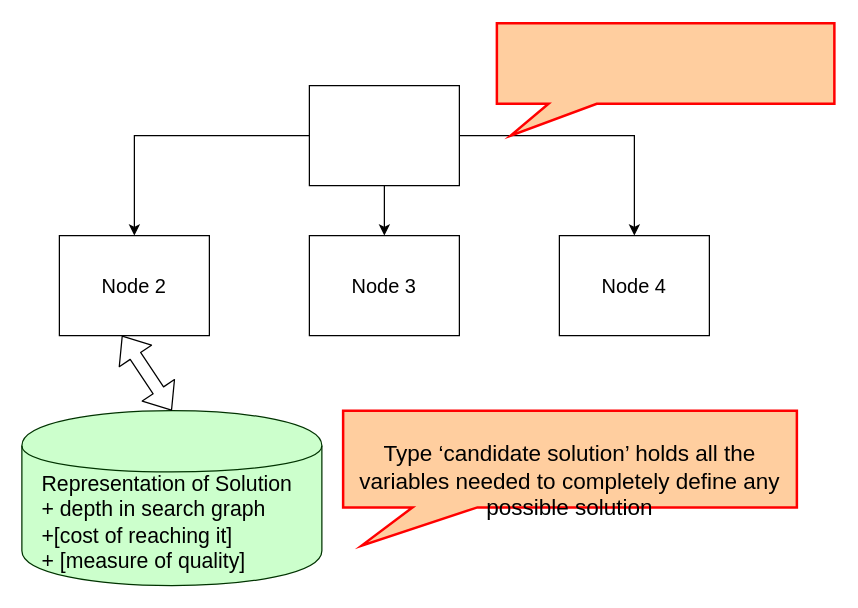
This 858x608 diagram has some shape labels left out. Here are the shapes that lost their labels. From the top down, the centre of each, then its label:
At point (665, 78): "Structure of landscape (graph) is defined by move operato r".
At point (383, 135): "Node 1".
